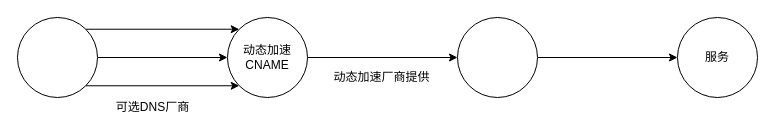
Image size: 775x135. Some labels were removed from this diagram. Each missing label, with the box of its shape:
TLB CNAME: (456, 16, 538, 98)
域名: (16, 16, 98, 98)
